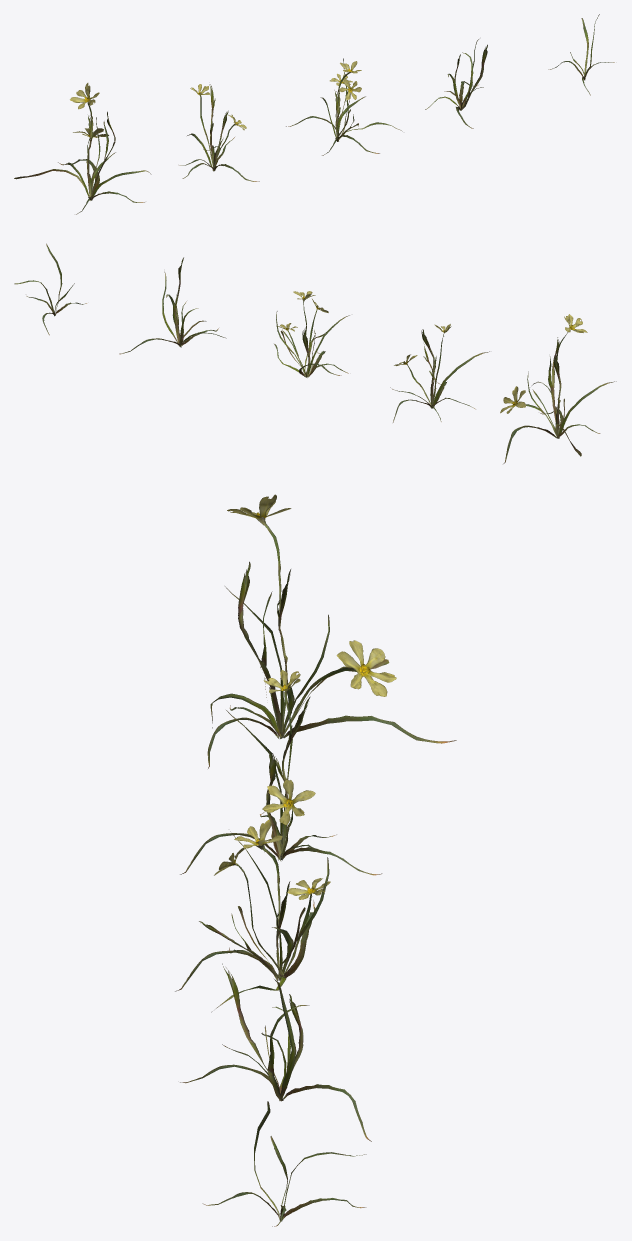
File: flower_empodium.obj
3 renders of one model, top to bottom at view 1: azimuth 30°, elevation 25°; view 2: azimuth 150°, elevation 25°; view 3: azimuth 270°, elevation 25°, orthographic. The views are drawn at different scales.
Parts seen in each view (by area): view 1: flower_empodium_a_LOD0_0, flower_empodium_c_LOD0_0, flower_empodium_b_LOD0_0, flower_empodium_d_LOD0_0, flower_empodium_e_LOD0_0; view 2: flower_empodium_a_LOD0_0, flower_empodium_c_LOD0_0, flower_empodium_b_LOD0_0, flower_empodium_d_LOD0_0, flower_empodium_e_LOD0_0; view 3: flower_empodium_a_LOD0_0, flower_empodium_c_LOD0_0, flower_empodium_b_LOD0_0, flower_empodium_d_LOD0_0, flower_empodium_e_LOD0_0.
Boxes of the visible parts, x1,y1,x2,y2 form: flower_empodium_a_LOD0_0: (14, 83, 151, 214); flower_empodium_c_LOD0_0: (286, 58, 402, 155); flower_empodium_b_LOD0_0: (179, 84, 259, 181); flower_empodium_d_LOD0_0: (425, 39, 487, 128); flower_empodium_e_LOD0_0: (548, 14, 614, 95); flower_empodium_a_LOD0_0: (500, 314, 616, 463); flower_empodium_c_LOD0_0: (274, 291, 349, 377); flower_empodium_b_LOD0_0: (390, 324, 489, 422); flower_empodium_d_LOD0_0: (119, 257, 226, 354); flower_empodium_e_LOD0_0: (14, 243, 86, 335); flower_empodium_a_LOD0_0: (207, 494, 456, 768); flower_empodium_c_LOD0_0: (175, 819, 330, 1012); flower_empodium_b_LOD0_0: (180, 670, 382, 875); flower_empodium_d_LOD0_0: (180, 963, 371, 1141); flower_empodium_e_LOD0_0: (202, 1101, 366, 1226).
Size of the model in its own units: 1.32 by 0.2684 by 0.2841.
